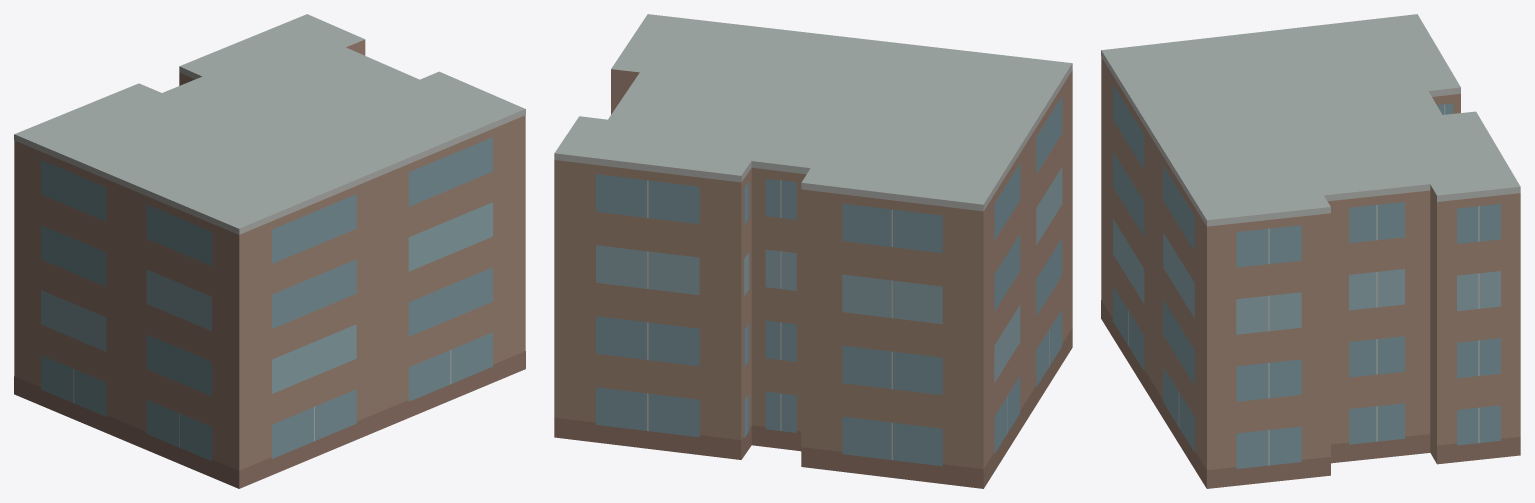
Rendered from survey-upis-32687695.glb.
3 views of the same model, side by side, from view 1: azimuth 30°, elevation 25°; view 2: azimuth 150°, elevation 25°; view 3: azimuth 270°, elevation 25° (orthographic). The views are drawn at different scales.
Visible parts, largest first — view 1: survey-upis-32687695.tmp; view 2: survey-upis-32687695.tmp; view 3: survey-upis-32687695.tmp.
Part boxes in pixels (x1,y1,x2,y2): survey-upis-32687695.tmp: (14, 14, 525, 488); survey-upis-32687695.tmp: (554, 14, 1072, 488); survey-upis-32687695.tmp: (1101, 14, 1520, 488).
Bounding box in the file's own units: 17.23 × 10.45 × 14.81.
